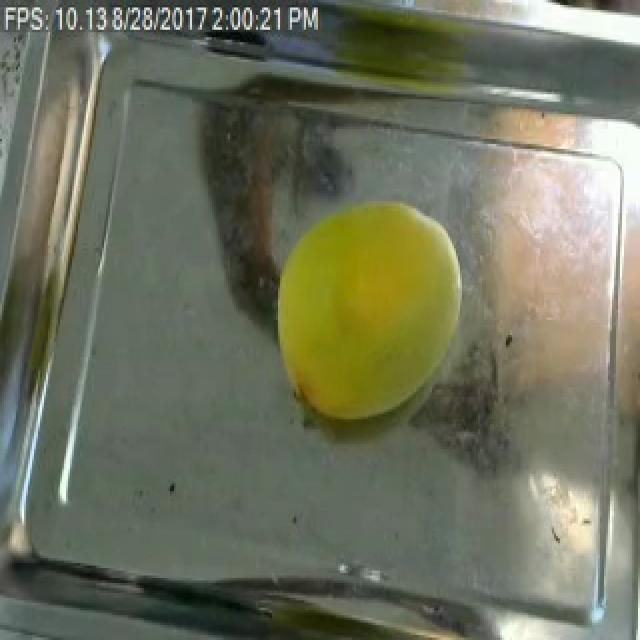fruit: (254, 174, 480, 442)
